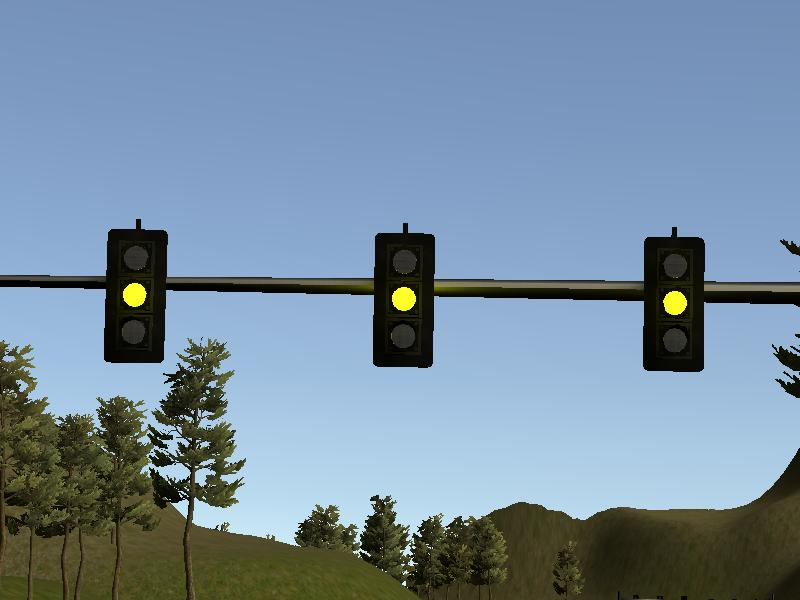yellow: (641, 234, 707, 372), (372, 230, 434, 368), (103, 228, 165, 365)
